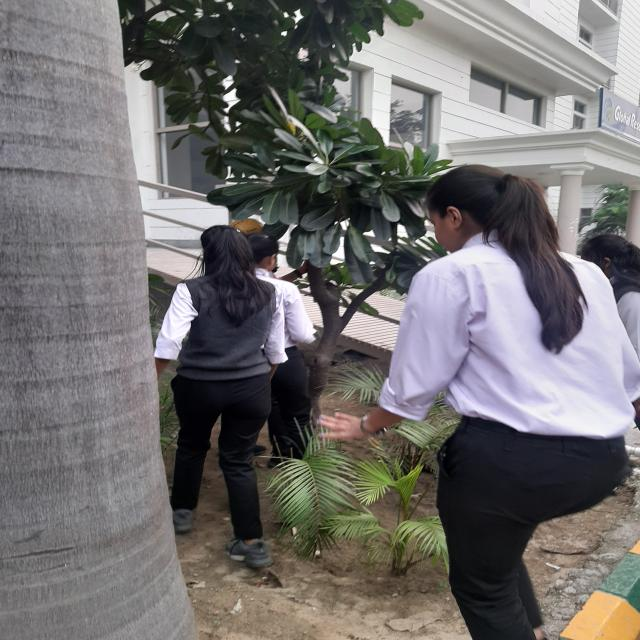unsafe: (326, 167, 640, 630), (156, 225, 290, 570), (247, 230, 323, 480)
